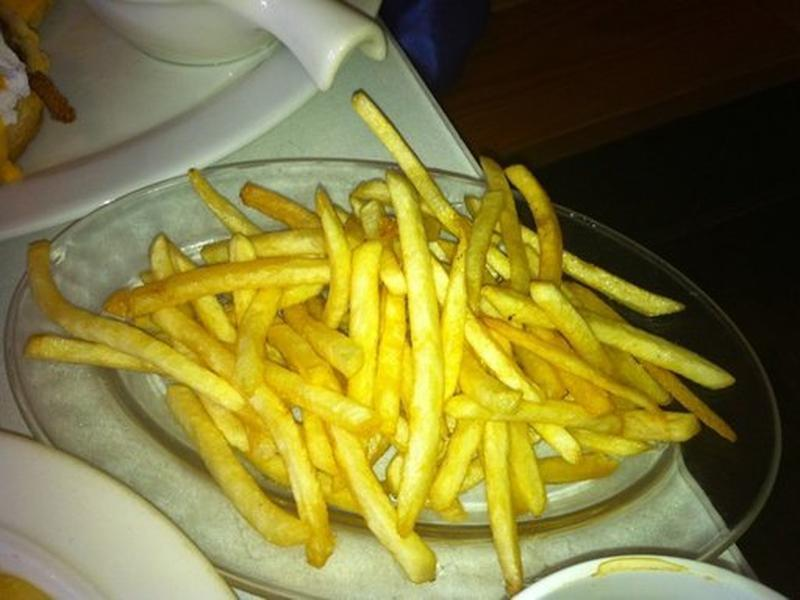french_fries: (58, 171, 711, 561)
